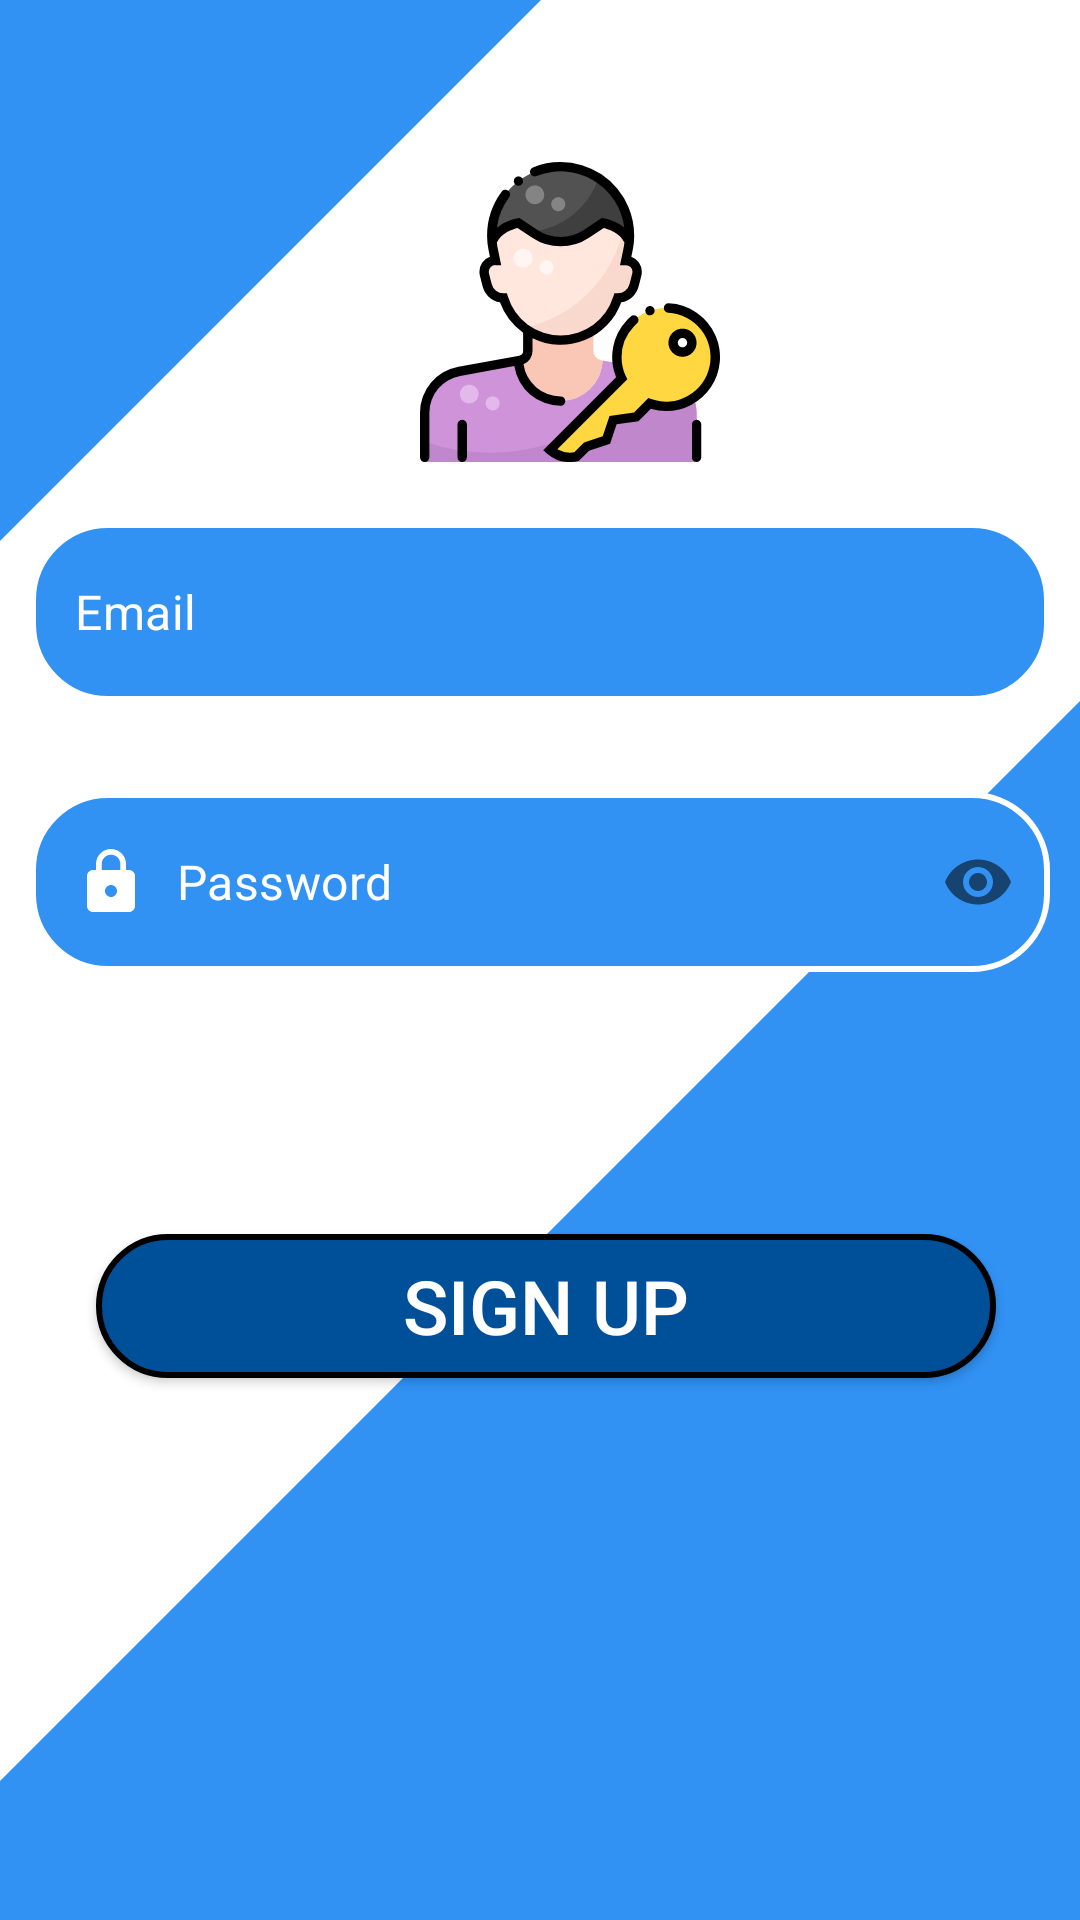

Icons on this 1080×1920 Android screen, each with the point to tap as [x,y]:
key: [570,312]
